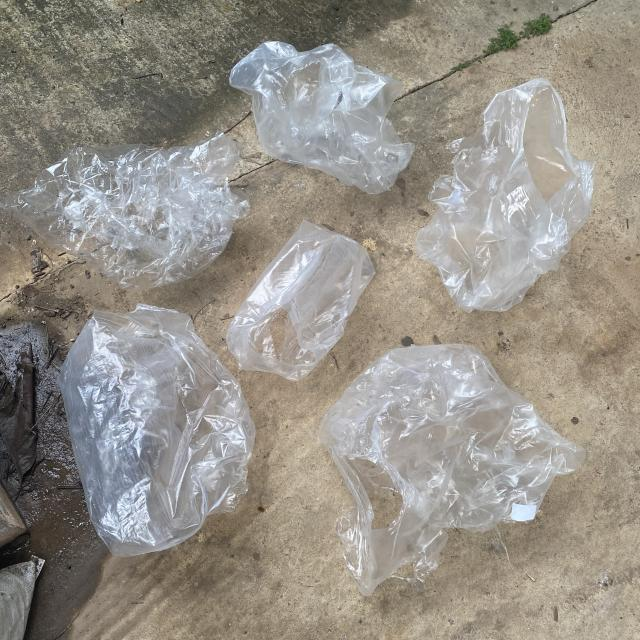Single-layer Plastic: (318, 344, 585, 595), (59, 305, 255, 556), (415, 79, 594, 311), (0, 131, 249, 291), (230, 41, 414, 194), (226, 221, 375, 381)
